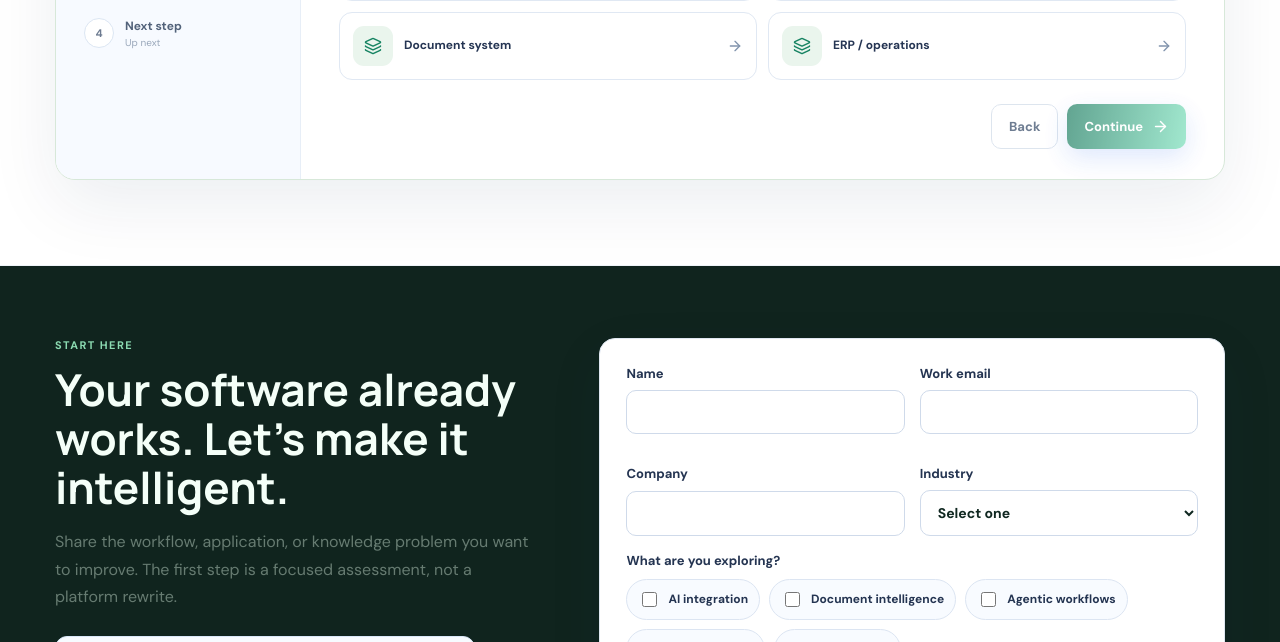
Scenario: App › submits the contact form to the lead API
(page scrolled)
Type "Jane Doe" into the field labelled "Name" at point(766, 412), box x1=626 y1=390 x2=905 y2=434
Type "jane@example.com" into the field labelled "Work email" at point(1059, 412), box x1=920 y1=390 x2=1198 y2=434
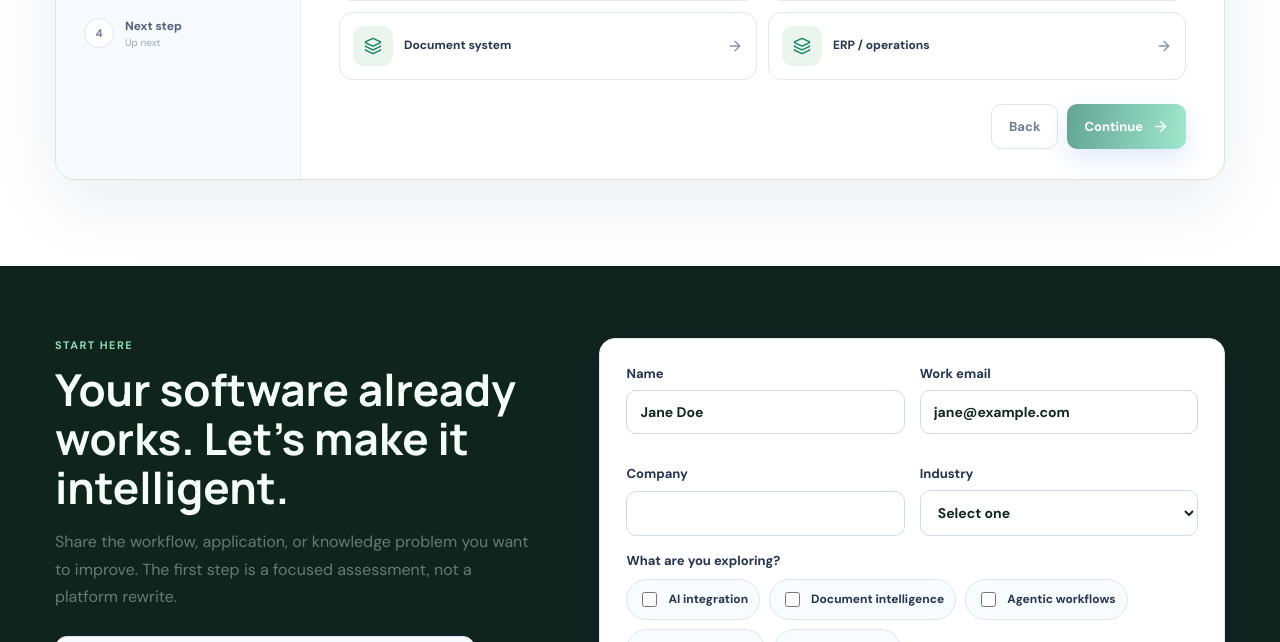
Type "Example Co" into the field labelled "Company" at point(766, 513), box x1=626 y1=491 x2=905 y2=536
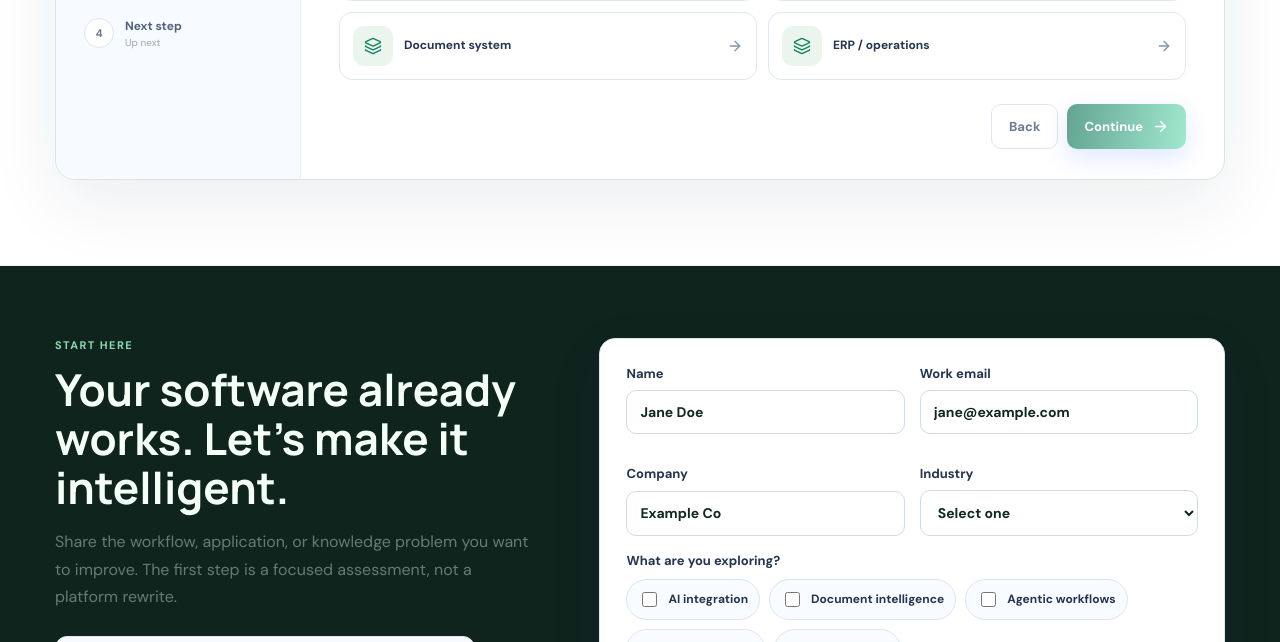
Select "Enterprise Software" in the dropdown labelled "Industry" at point(1059, 513), box x1=920 y1=490 x2=1198 y2=536
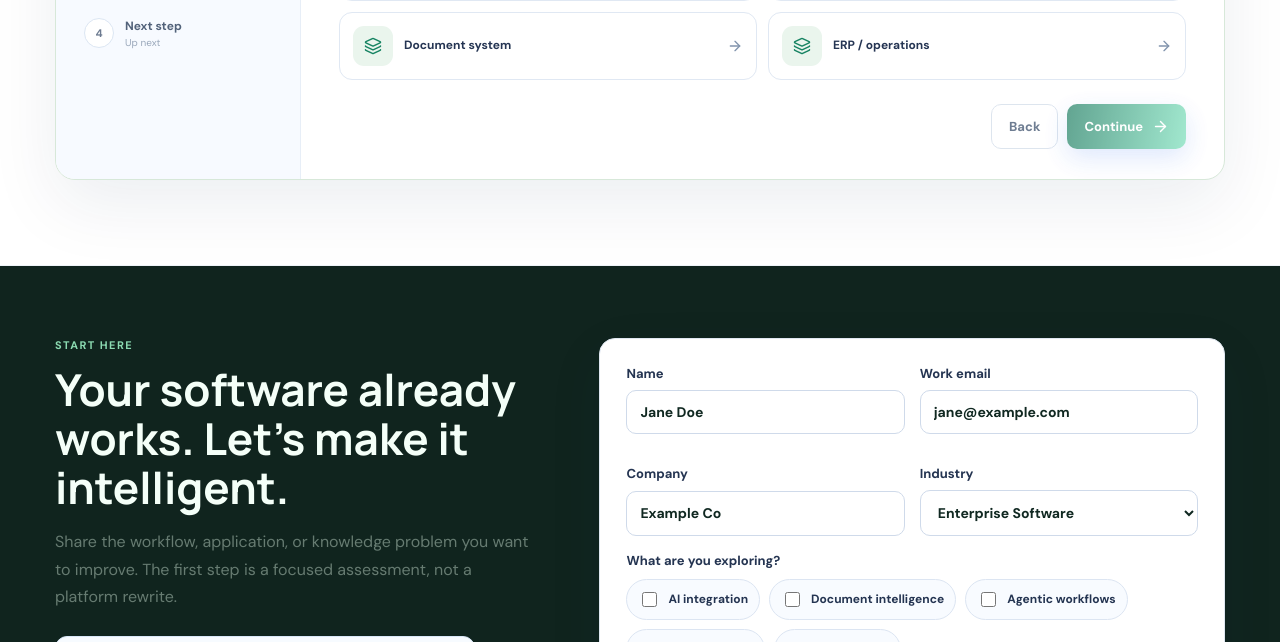
Click the checkbox labelled "AI integration" at point(650, 599), box x1=642 y1=592 x2=657 y2=607
(page scrolled)
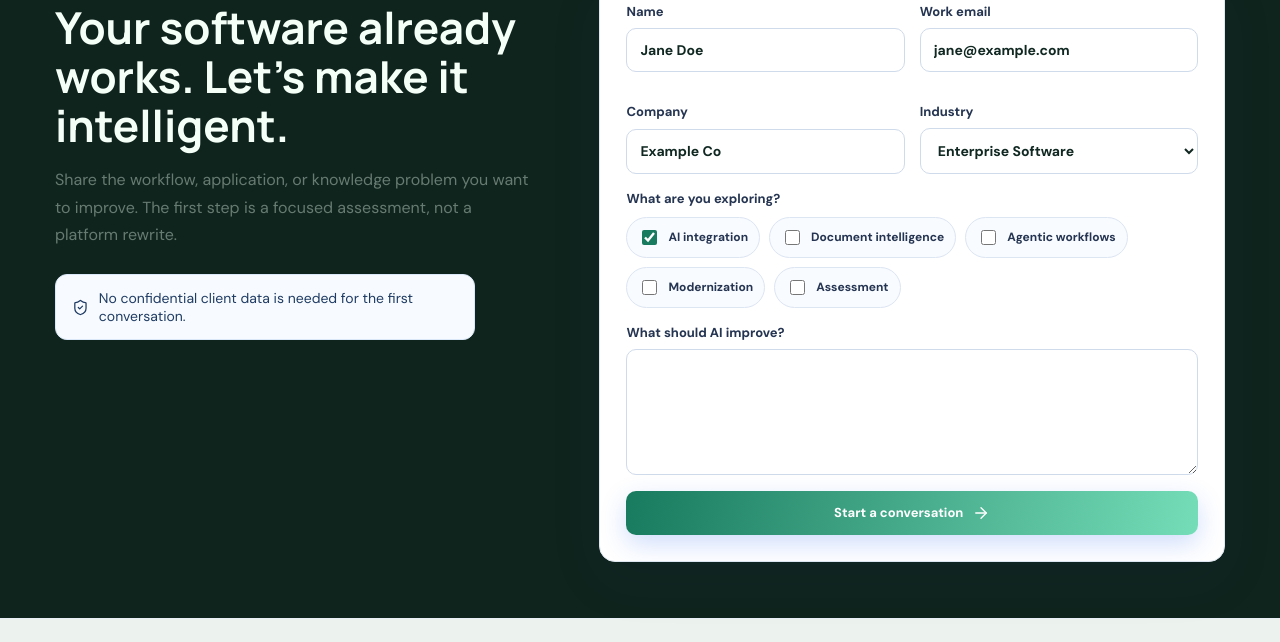
Type "We want to add AI to an internal workflow." into the text box labelled "What should AI improve?" at point(912, 412), box x1=626 y1=349 x2=1198 y2=475
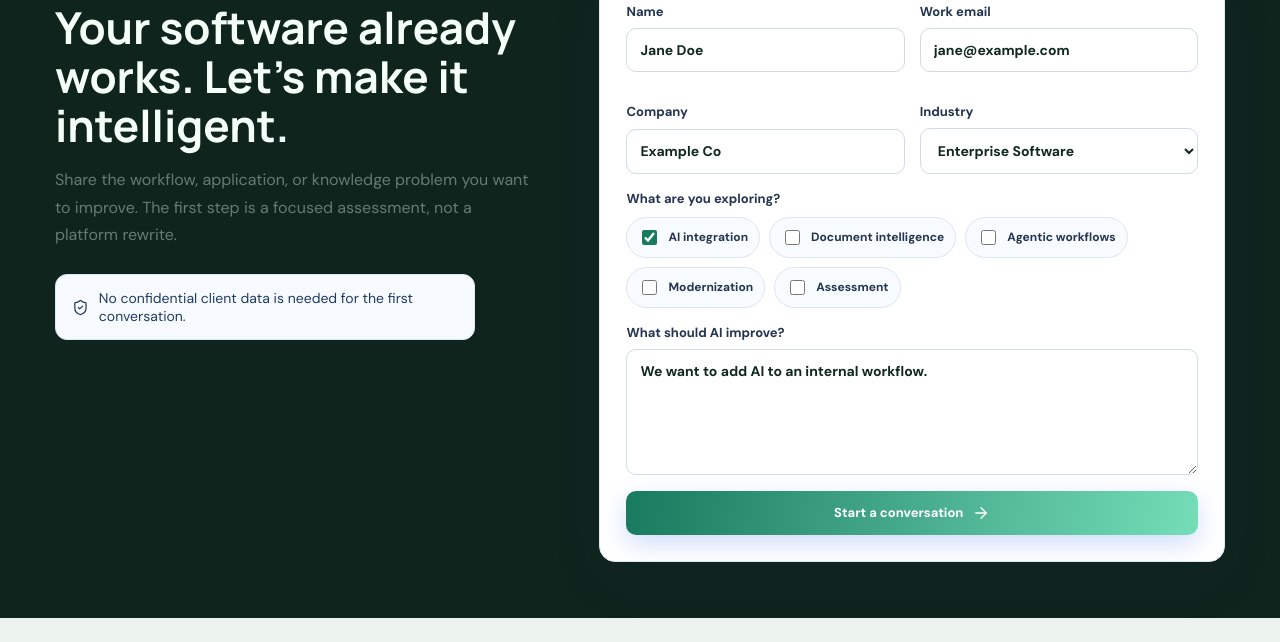
Click the button "Start a conversation" at point(912, 513), box x1=626 y1=491 x2=1198 y2=535
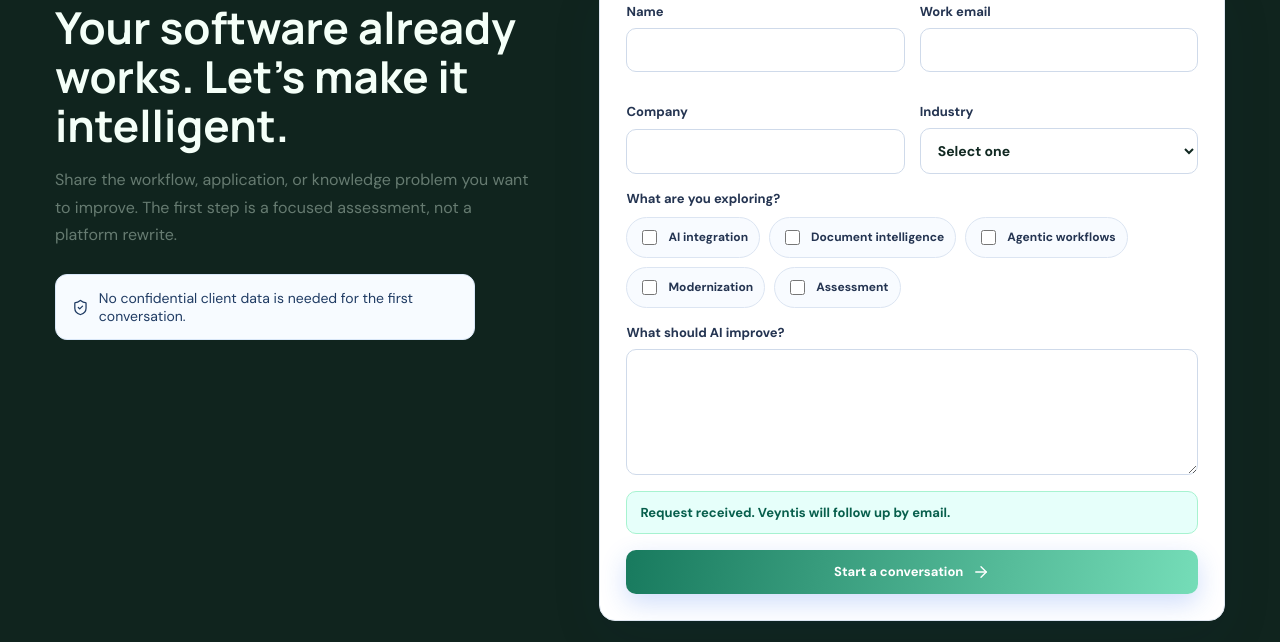
Expected: the text "Request received. Veyntis will follow up by email." is shown, x1=626 y1=491 x2=1198 y2=534
